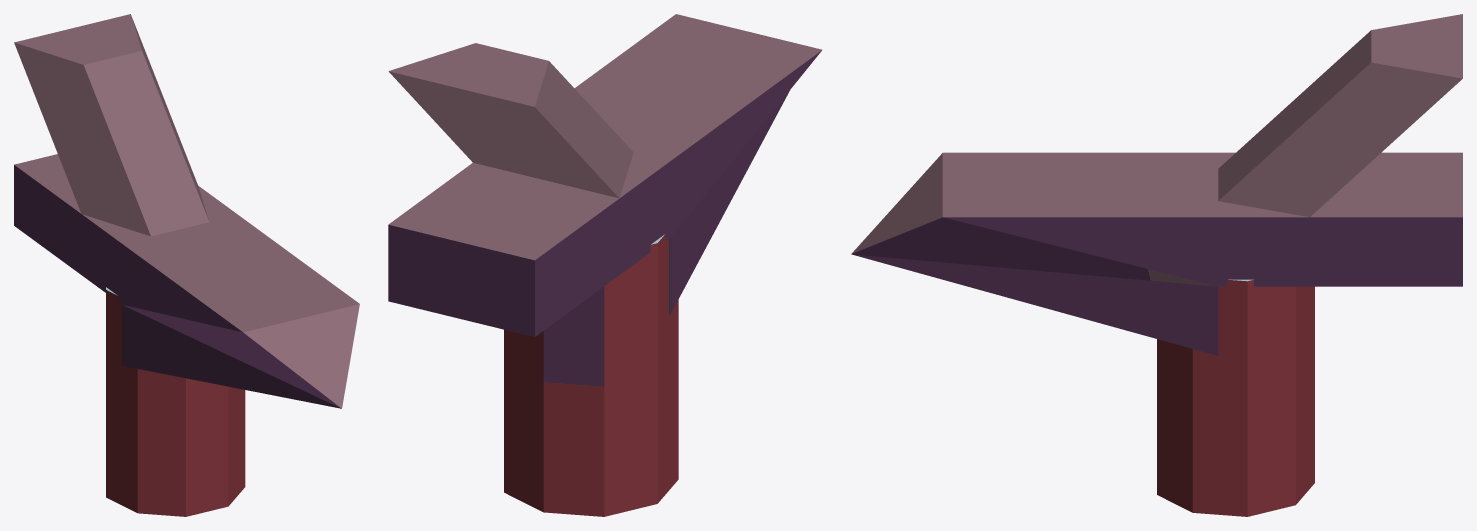
Rendered from gunnew.fbx.
3 renders of one model, left to right at view 1: azimuth 30°, elevation 25°; view 2: azimuth 150°, elevation 25°; view 3: azimuth 270°, elevation 25°, orthographic. The views are drawn at different scales.
Visible parts, largest first — view 1: pyramid, cylinder; view 2: pyramid, cylinder; view 3: pyramid, cylinder.
Boxes of the visible parts, <box> form: pyramid: <box>14,14,359,408</box>; cylinder: <box>106,287,245,516</box>; pyramid: <box>388,14,822,336</box>; cylinder: <box>504,234,678,516</box>; pyramid: <box>851,14,1462,355</box>; cylinder: <box>1157,279,1314,516</box>.
Bounding box in the file's own units: 6.55 × 19.69 × 25.
Materials: 2 (2 with a texture image).
